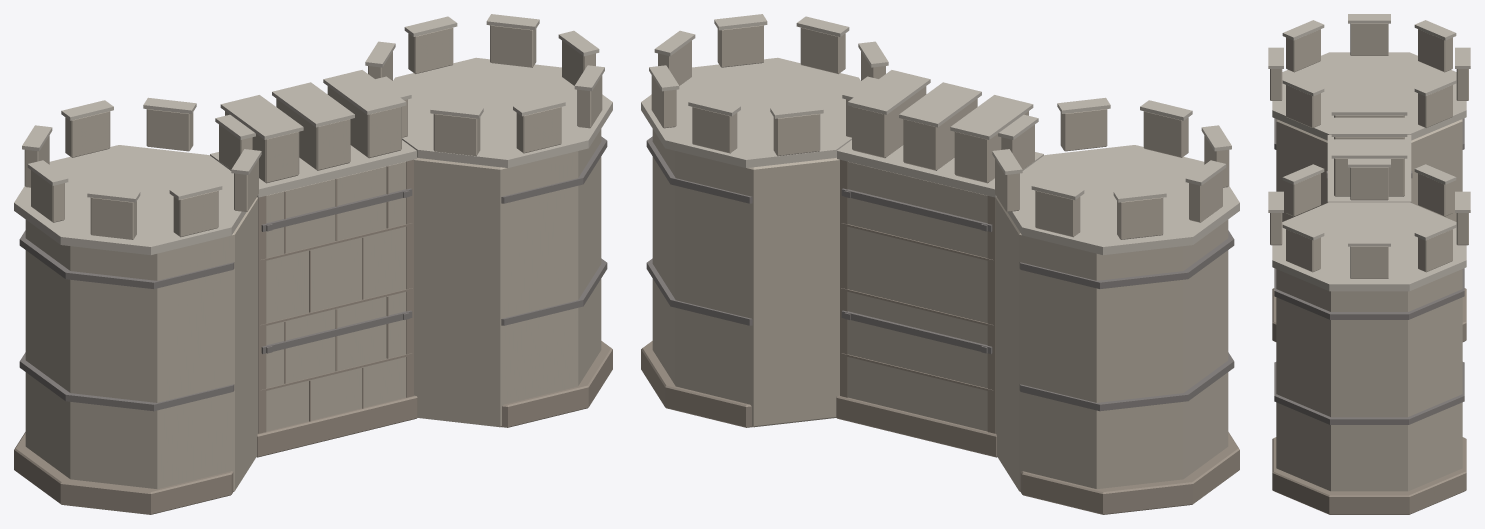
File: WallSegment.fbx
The picture shows the model from 3 angles, left to right: view 1: azimuth 30°, elevation 25°; view 2: azimuth 150°, elevation 25°; view 3: azimuth 270°, elevation 25°; orthographic projection. The views are drawn at different scales.
Parts seen in each view (by area): view 1: WallSegment; view 2: WallSegment; view 3: WallSegment.
Part boxes in pixels (x1,y1,x2,y2): WallSegment: (14, 14, 612, 514); WallSegment: (641, 14, 1239, 514); WallSegment: (1268, 14, 1470, 514).
Size of the model in its own units: 3.55 by 1.95 by 1.31.
